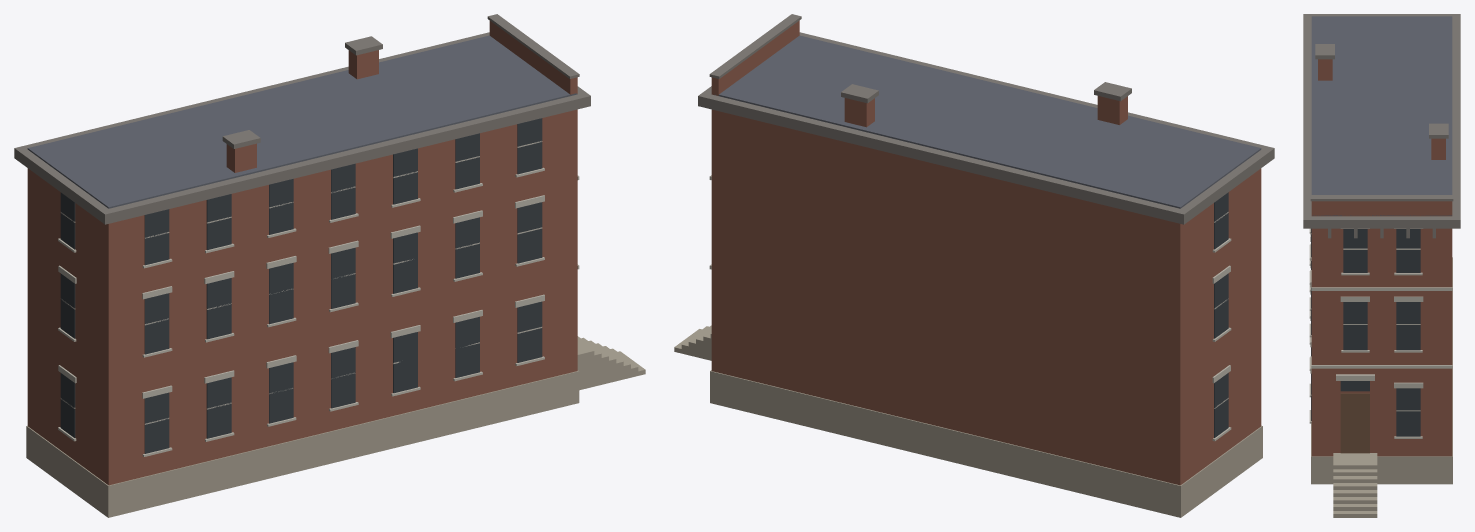
The model's file is house_1623_prairie__draft_1904.glb.
3 views of the same model, side by side, from view 1: azimuth 30°, elevation 25°; view 2: azimuth 150°, elevation 25°; view 3: azimuth 270°, elevation 25° (orthographic). The views are drawn at different scales.
Visible parts, largest first — view 1: house_1623_prairie__draft_1904; view 2: house_1623_prairie__draft_1904; view 3: house_1623_prairie__draft_1904.
Part boxes in pixels (x1=…): house_1623_prairie__draft_1904: x1=14, y1=14, x2=645, y2=517; house_1623_prairie__draft_1904: x1=674, y1=14, x2=1274, y2=517; house_1623_prairie__draft_1904: x1=1303, y1=14, x2=1460, y2=517.
Bounding box in the file's own units: 22.9 × 13.34 × 6.45.
